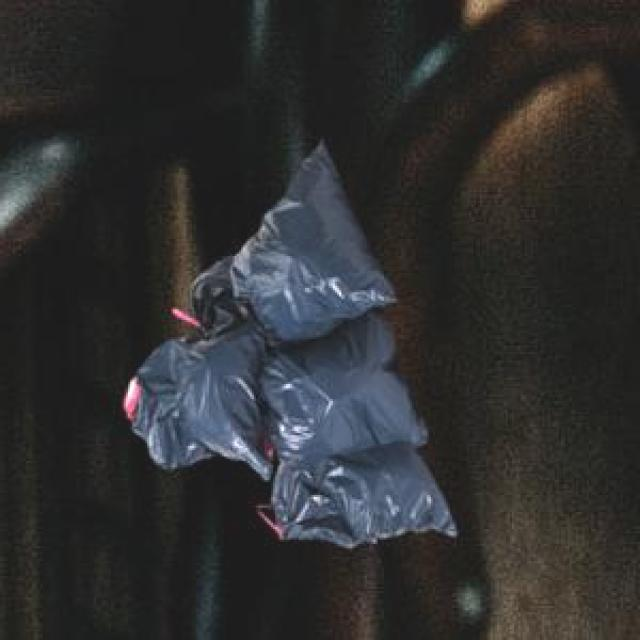Trashbag: (239, 142, 387, 340), (262, 314, 420, 456), (136, 320, 269, 470), (270, 440, 451, 549)
